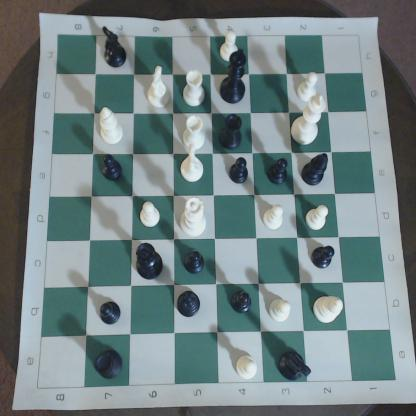black-bishop: (301, 153, 334, 189), (178, 289, 201, 323)
black-king: (229, 51, 254, 104)
black-knight: (99, 23, 128, 70), (279, 349, 314, 383)
black-pawn: (229, 283, 256, 318), (97, 297, 128, 327), (267, 153, 292, 190), (225, 158, 254, 188), (310, 243, 337, 275), (185, 249, 213, 278), (103, 155, 125, 184)
black-queen: (135, 241, 165, 280)
black-rook: (222, 114, 248, 151), (99, 348, 126, 381)
white-bishop: (95, 104, 130, 146), (311, 289, 344, 326)
white-king: (285, 94, 332, 151)
white-knight: (146, 66, 171, 111)
white-pawn: (304, 201, 331, 235), (265, 299, 292, 332), (139, 201, 163, 234), (264, 203, 287, 234), (234, 357, 260, 382), (224, 30, 238, 65)
white-queen: (181, 198, 211, 237)
white-rook: (183, 72, 210, 111), (179, 118, 206, 150)
